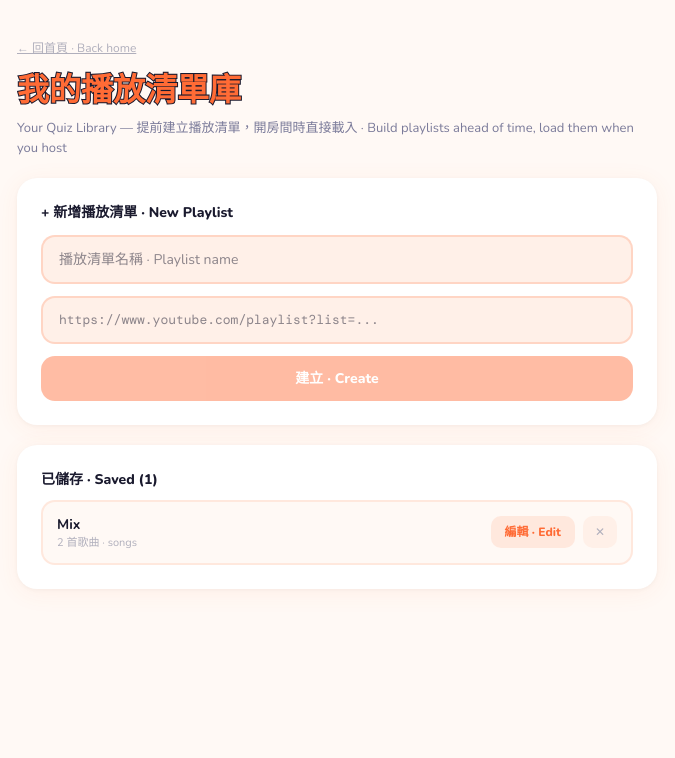
PlaylistsPage: select and delete › loads a playlist's songs into the editor when Edit is clicked
Expected: the text "Mix" is shown, [57,514,80,534]
Click the button "編輯 · Edit": x=533, y=532 [490,516,575,548]
(page scrolled)
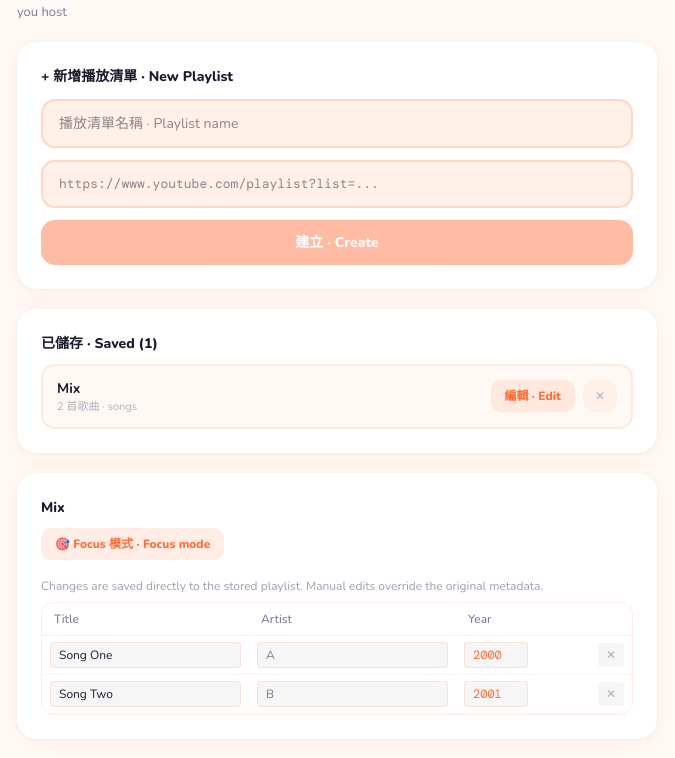
Expected: the 1st field showing "Song One" is shown, [50,642,241,668]
